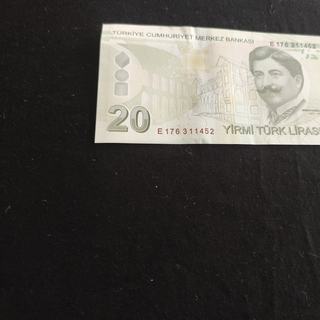20TLBack: (94, 23, 320, 146)
